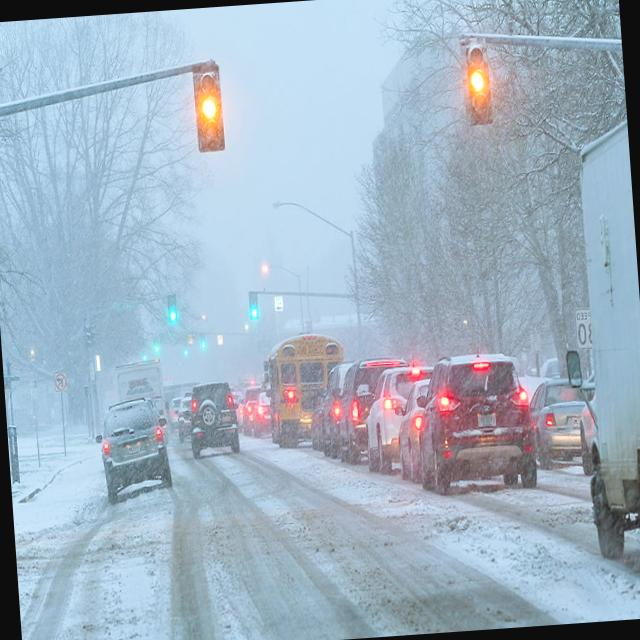Vehicle: (422, 343, 538, 503), (82, 392, 174, 503), (262, 326, 324, 445), (186, 366, 240, 462), (371, 368, 410, 468), (337, 349, 372, 460)
